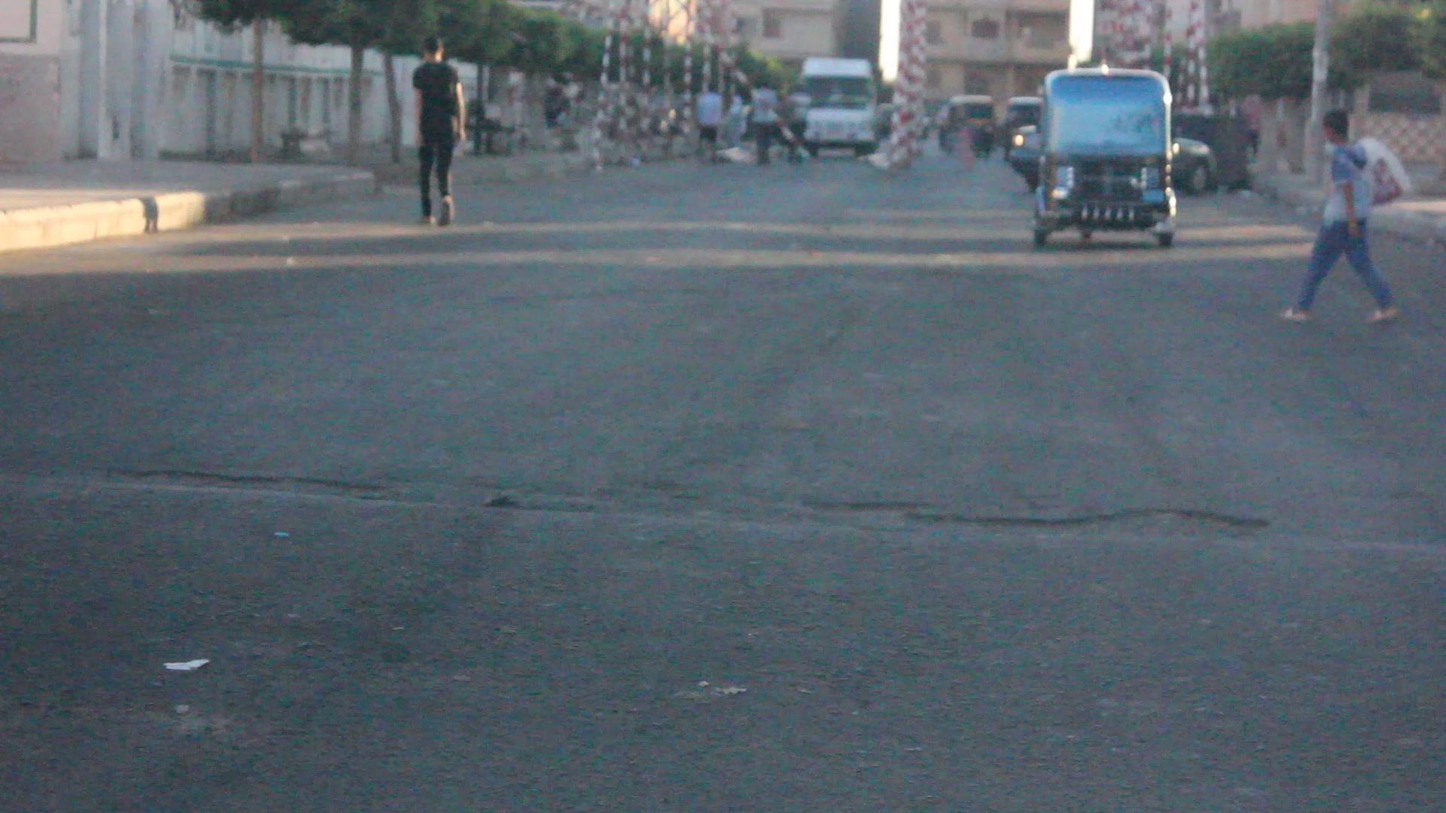Pothole: (111, 457, 1335, 549)
